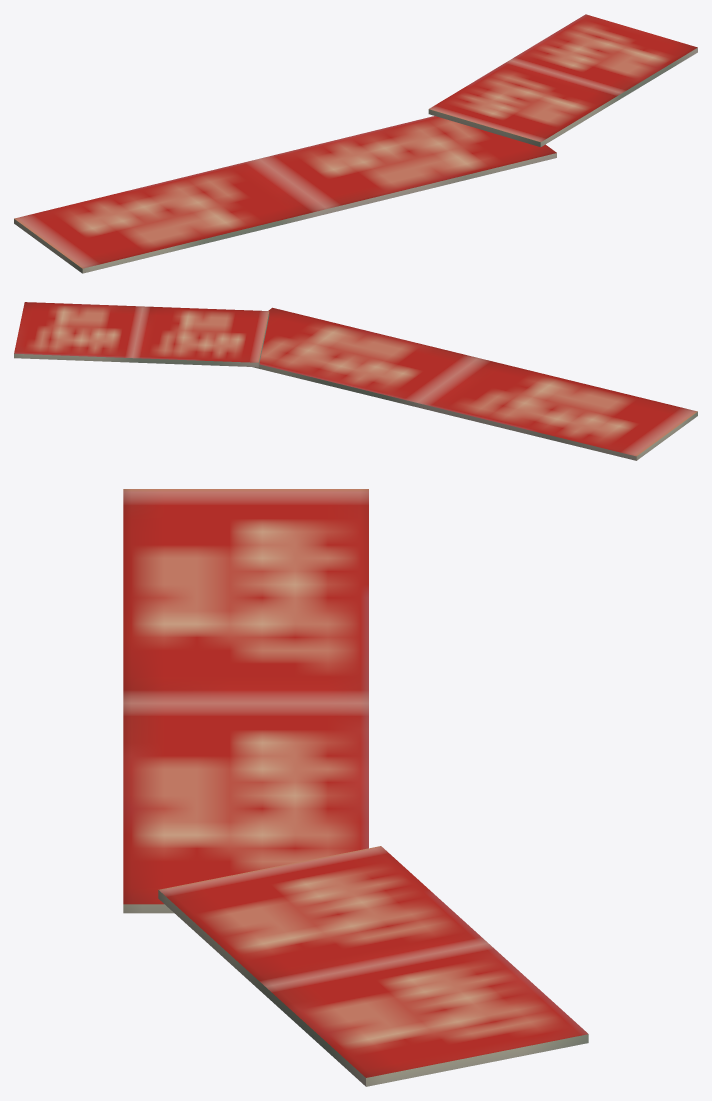
The model's file is ticket_strip.fbx.
3 renders of one model, top to bottom at view 1: azimuth 30°, elevation 25°; view 2: azimuth 150°, elevation 25°; view 3: azimuth 270°, elevation 25°, orthographic. The views are drawn at different scales.
Visible parts, largest first — view 1: ticket_strip; view 2: ticket_strip; view 3: ticket_strip.
Boxes of the visible parts, <box> form: ticket_strip: <box>14,14,697,273</box>; ticket_strip: <box>14,302,697,460</box>; ticket_strip: <box>123,489,588,1086</box>.
Size of the model in its own units: 0.2879 by 0.004 by 0.0948.
1 material, 1 textured.
